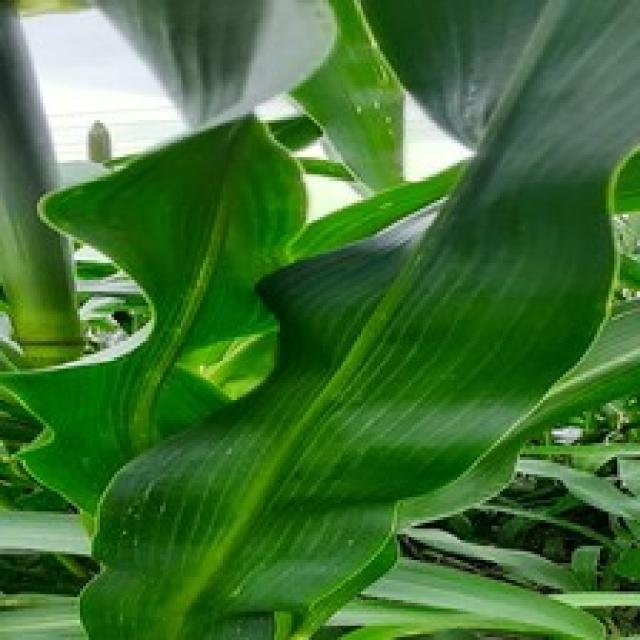Corn: (0, 0, 637, 637), (0, 109, 309, 520), (80, 0, 337, 129)
